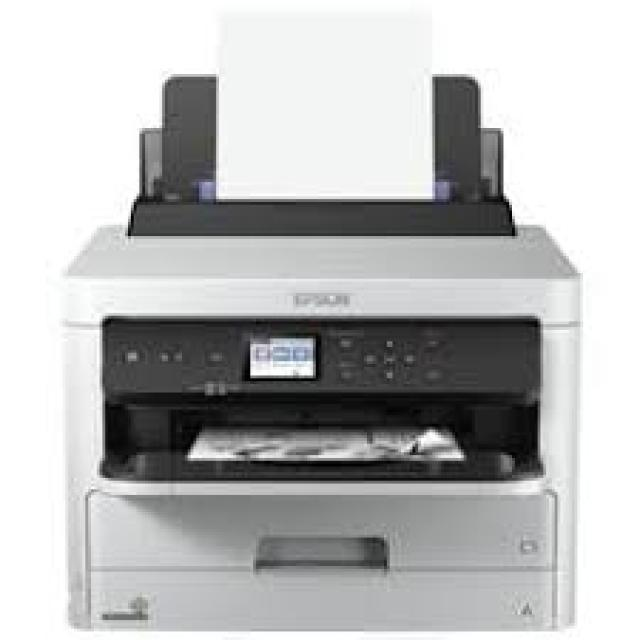printer: (57, 66, 583, 632)
